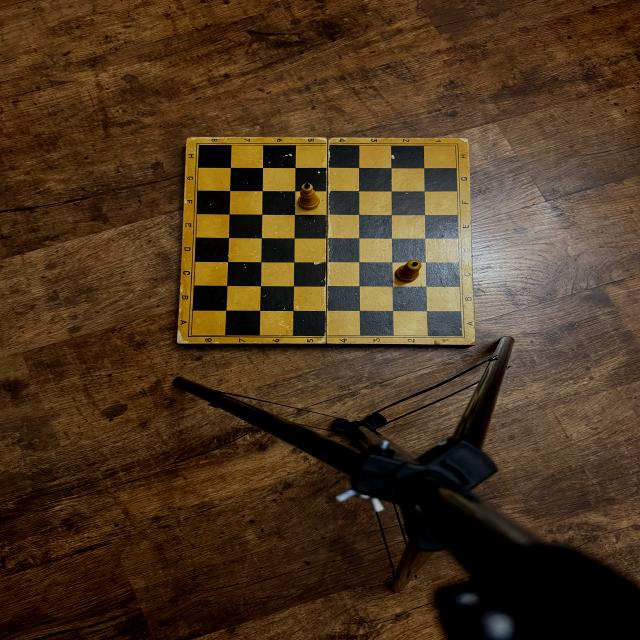white-king: (298, 182, 320, 210)
white-queen: (394, 260, 422, 283)
